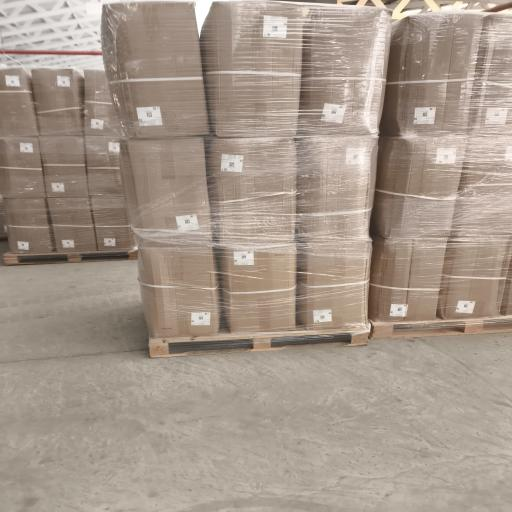pallet: (149, 330, 368, 357), (370, 316, 511, 339), (4, 250, 137, 265)
